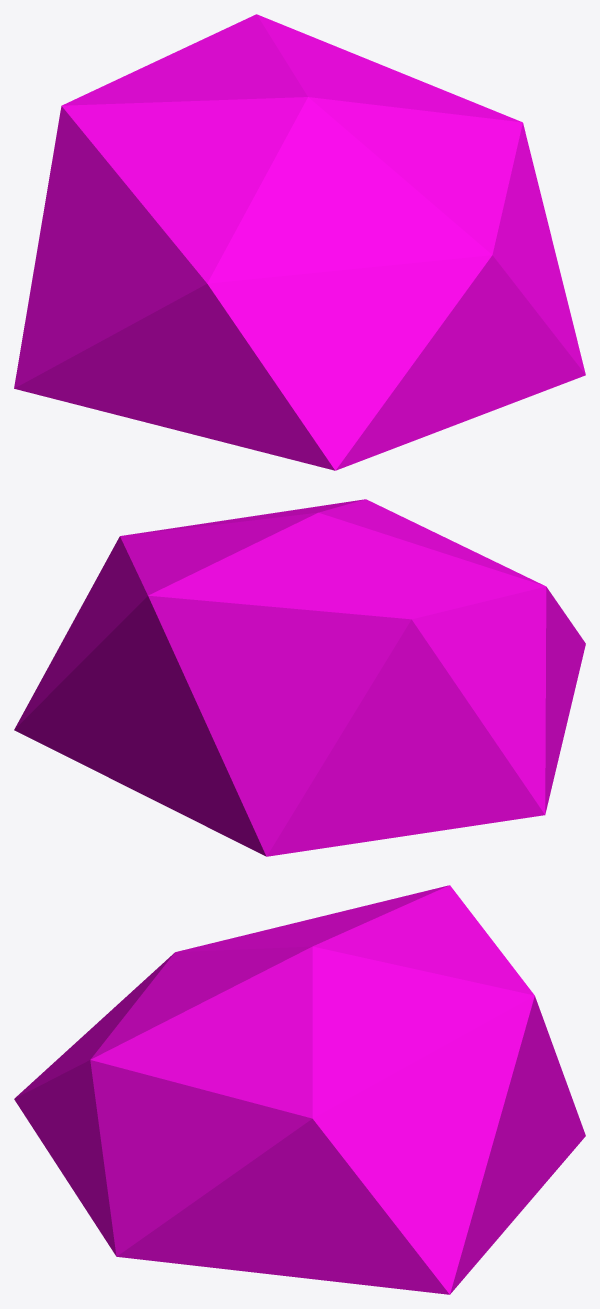
File: SeekerStone.fbx
3 renders of one model, top to bottom at view 1: azimuth 30°, elevation 25°; view 2: azimuth 150°, elevation 25°; view 3: azimuth 270°, elevation 25°, orthographic. The views are drawn at different scales.
Parts seen in each view (by area): view 1: GeoSphere001; view 2: GeoSphere001; view 3: GeoSphere001.
Part boxes in pixels (x1,y1,x2,y2): GeoSphere001: (14,14,585,470); GeoSphere001: (14,499,585,856); GeoSphere001: (14,885,585,1294).
Bounding box in the file's own units: 46.64 × 46.58 × 20.7.
